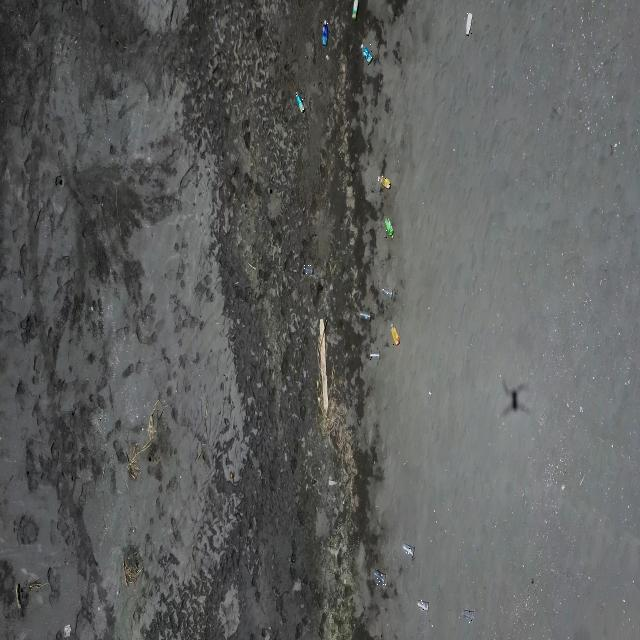plastic-bottle: (321, 20, 330, 48), (362, 43, 372, 66), (384, 217, 394, 239), (391, 324, 400, 347), (378, 175, 391, 189), (296, 92, 305, 112), (352, 0, 360, 21), (466, 13, 472, 34)
takeaway-cup: (374, 569, 386, 585), (462, 608, 474, 623), (403, 544, 415, 557), (417, 600, 429, 613), (359, 310, 371, 322), (383, 287, 393, 300), (303, 265, 313, 277), (369, 351, 381, 360)
